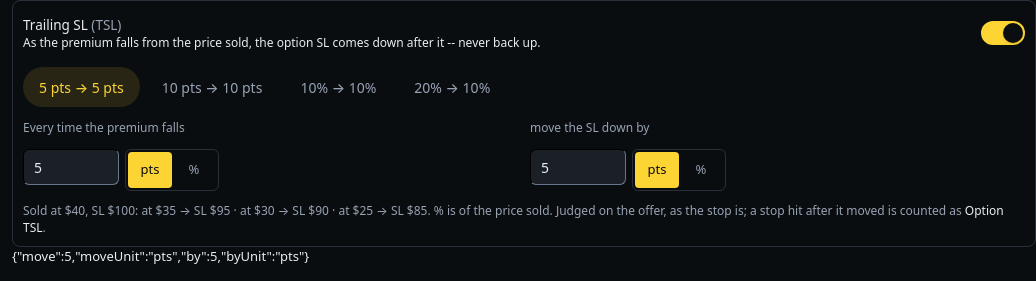
Test: the trailing SL editor › [critical] each number in pts or %, and what is wrong is said where it is typed
Click the radio button named "per cent of the price sold" at (701, 170), box [679,152,723,188]
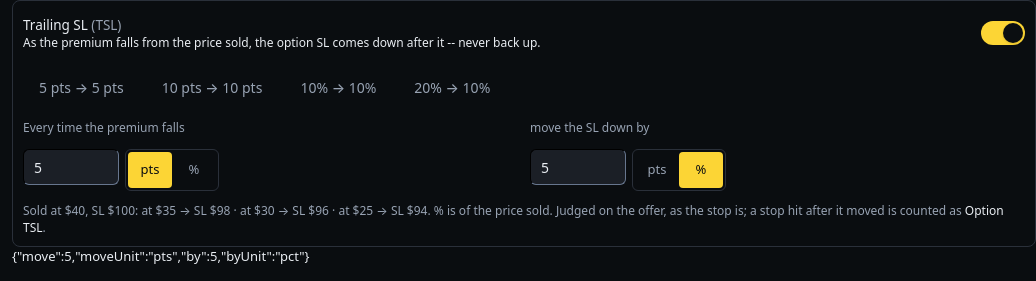
Click the radio button with aria-label "premium points" at (657, 170), box [635,152,679,188]
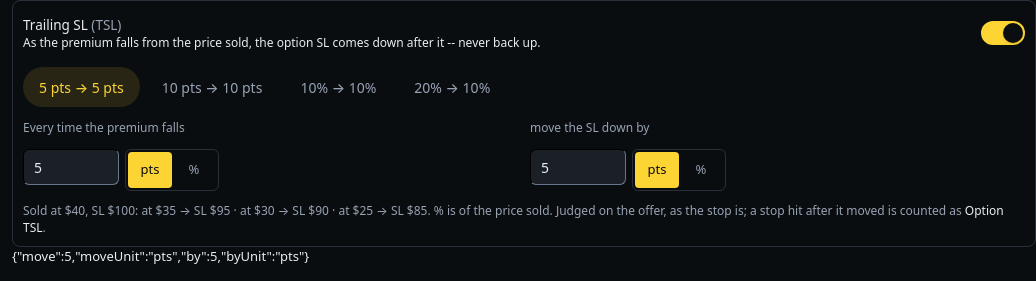
Replace the text in the field named "Trailing SL: SL move" with "8" at (578, 167), box [530,149,626,185]
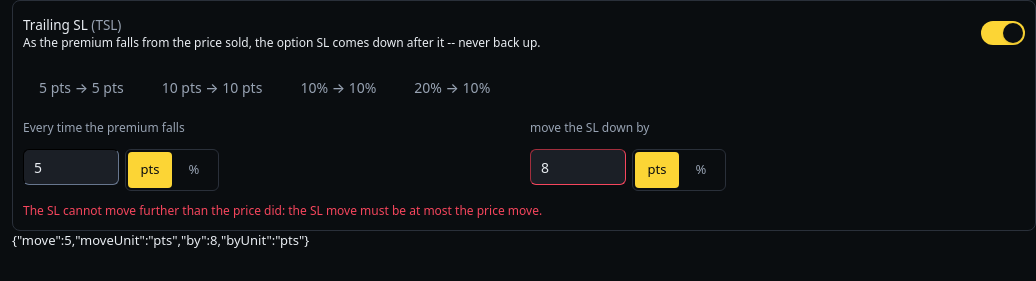
Check: the message shows "The SL cannot move further than the price did", box [23,202,542,219]
